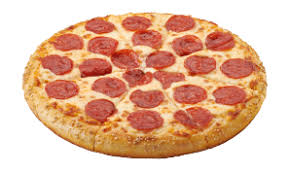pizza: (23, 11, 268, 153)
